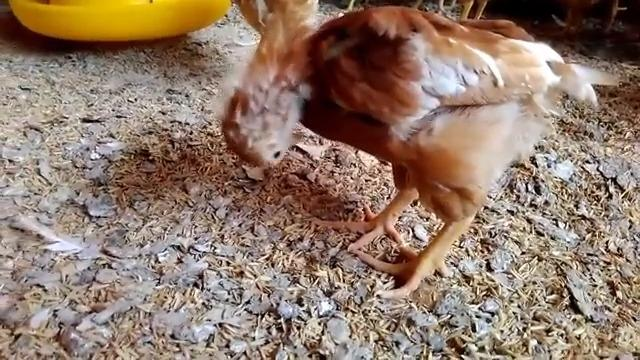AbNormal: (213, 0, 607, 294)
